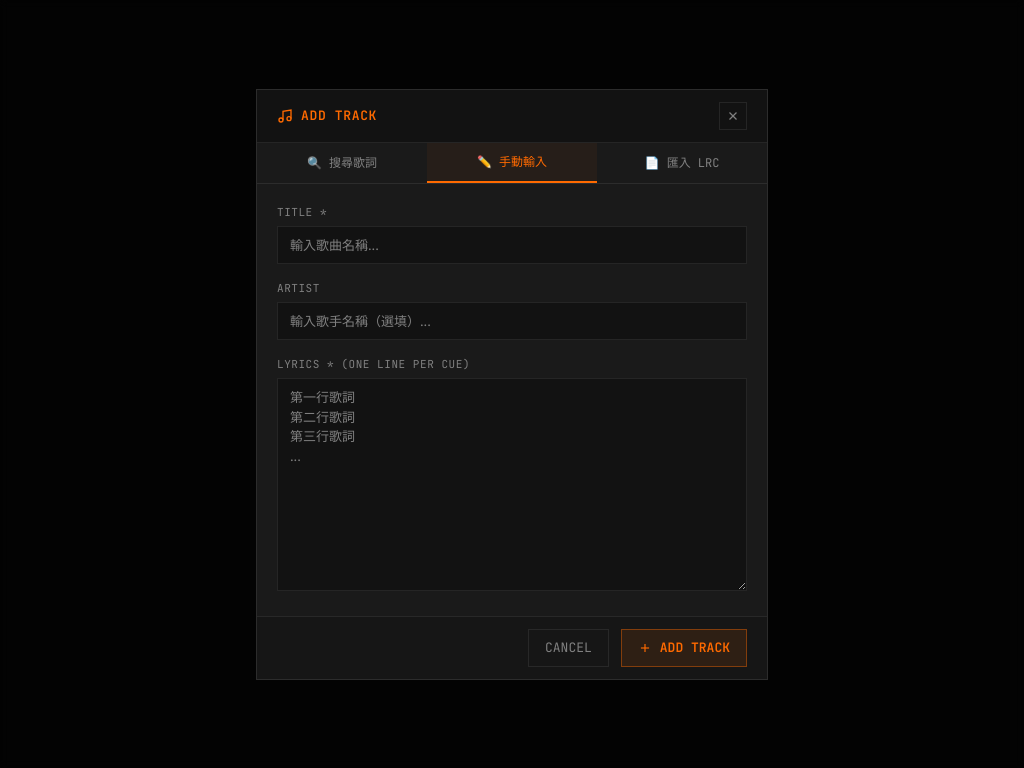
Scenario: AddSongModal › shows error when submitting with empty title
不輸入任何東西直接點提交
Click the button "ADD TRACK": (684, 648) [621, 629, 747, 666]
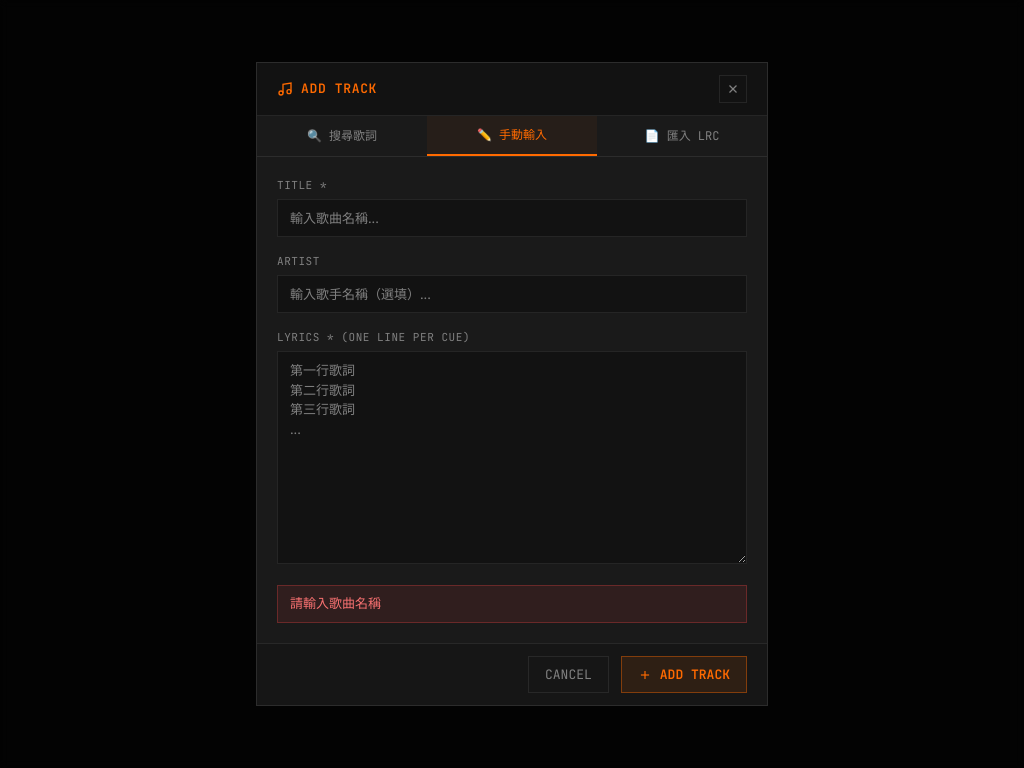
Expected: the text "請輸入歌曲名稱" is shown, [277, 585, 747, 623]
